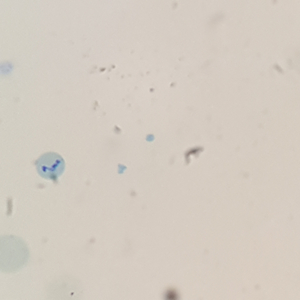aggregate reticulocyte: (33, 151, 67, 181)
